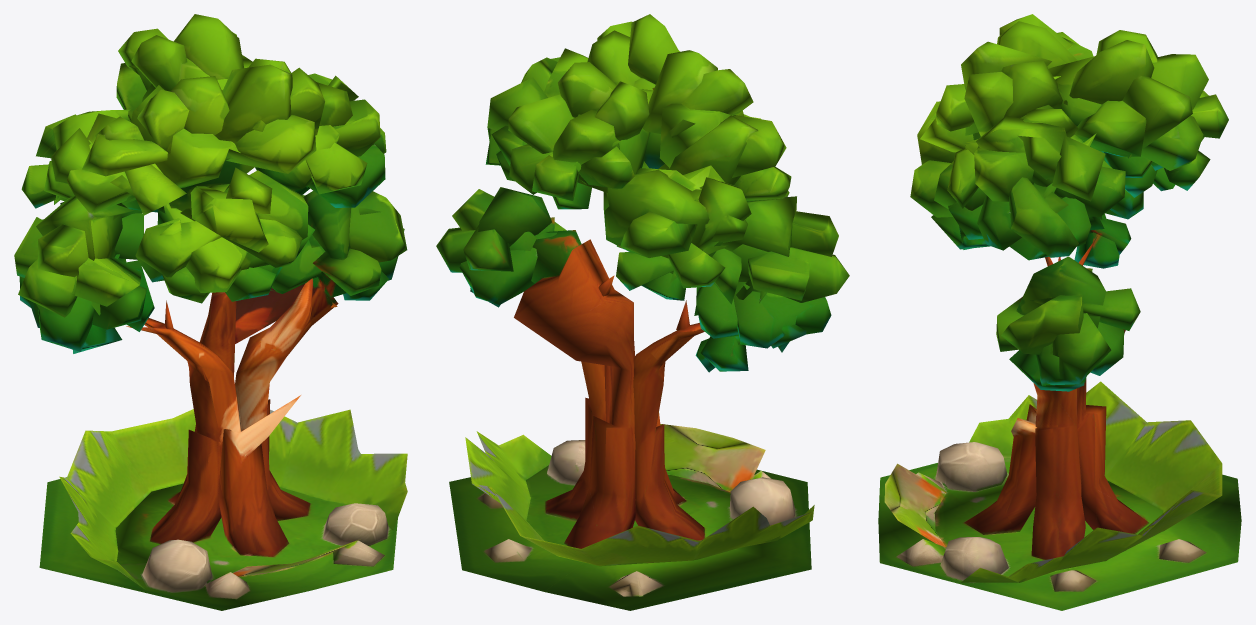
Rendered from etapa50.glb.
The picture shows the model from 3 angles, left to right: view 1: azimuth 30°, elevation 25°; view 2: azimuth 150°, elevation 25°; view 3: azimuth 270°, elevation 25°; orthographic projection.
Bounding box in the file's own units: 0.8469 × 1 × 0.6767.
Materials: 1 (1 with a texture image).
